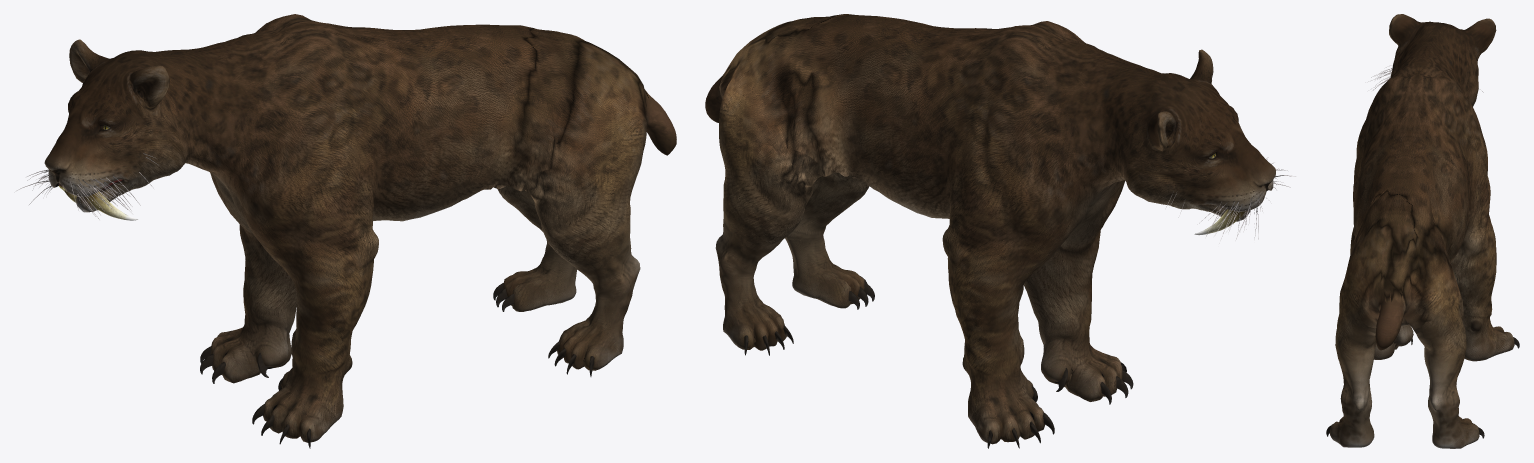
3 views of the same model, side by side, from view 1: azimuth 30°, elevation 25°; view 2: azimuth 150°, elevation 25°; view 3: azimuth 270°, elevation 25° (orthographic). The views are drawn at different scales.
Parts seen in each view (by area): view 1: Animal; view 2: Animal; view 3: Animal.
Part boxes in pixels (<box>): Animal: <box>16,14,676,448</box>; Animal: <box>705,14,1295,448</box>; Animal: <box>1326,14,1519,448</box>.
Size of the model in its own units: 3.2 by 1.94 by 1.17.
1 material, 1 textured.
